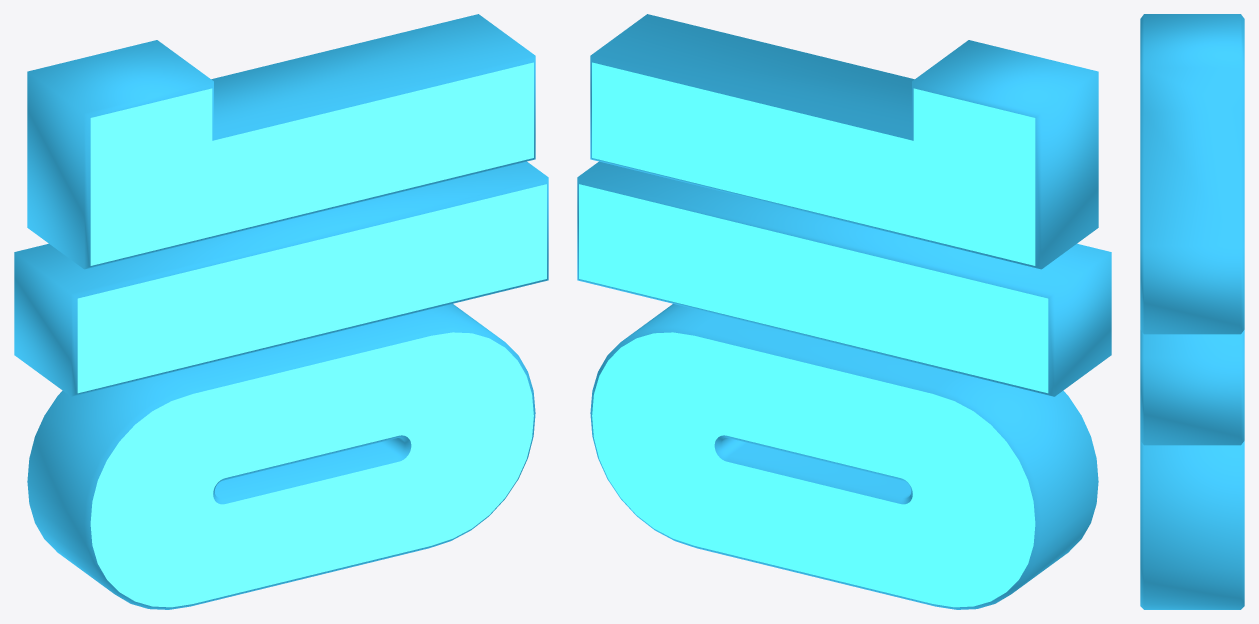
3 renders of one model, left to right at view 1: azimuth 30°, elevation 25°; view 2: azimuth 150°, elevation 25°; view 3: azimuth 270°, elevation 25°, orthographic. The views are drawn at different scales.
Parts seen in each view (by area): view 1: glyph; view 2: glyph; view 3: glyph.
Boxes of the visible parts, x1,y1,x2,y2 form: glyph: (14,14,548,609); glyph: (577,14,1111,609); glyph: (1140,14,1244,609).
Size of the model in its own units: 0.0726 by 0.0755 by 0.0162.
